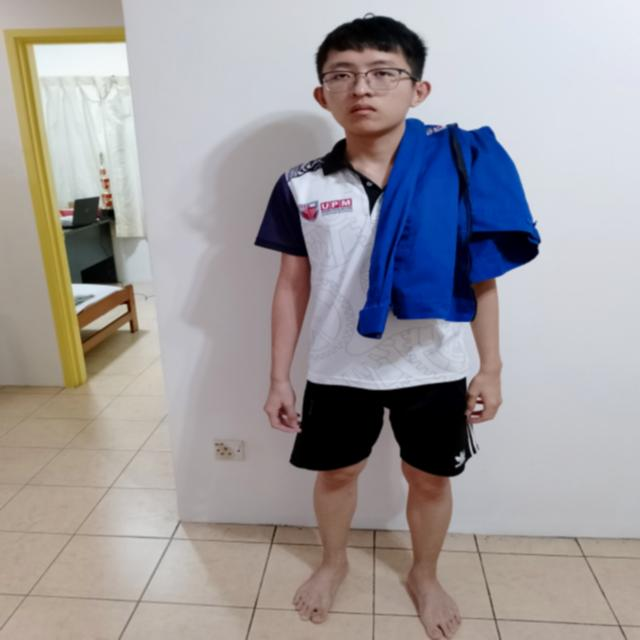person_without_labcoat: (255, 16, 540, 640)
